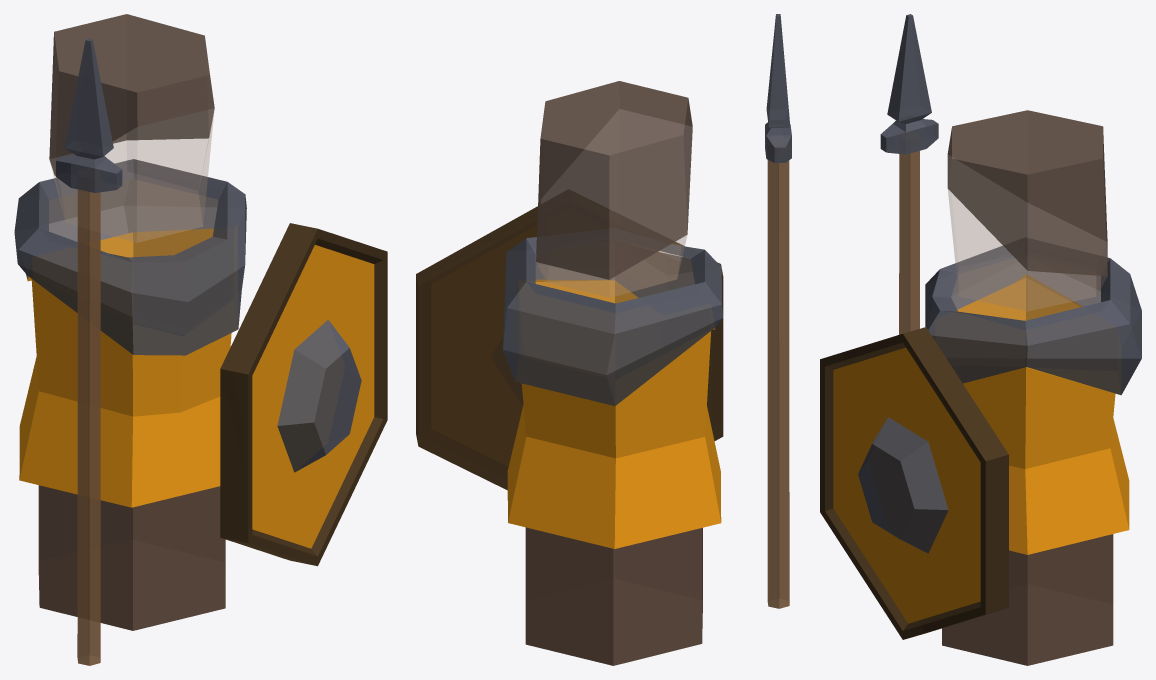
The model's file is MDL_Spearman.fbx.
3 views of the same model, side by side, from view 1: azimuth 30°, elevation 25°; view 2: azimuth 150°, elevation 25°; view 3: azimuth 270°, elevation 25° (orthographic). The views are drawn at different scales.
Parts seen in each view (by area): view 1: MeshSpearman, MeshSpearman.001; view 2: MeshSpearman, MeshSpearman.001; view 3: MeshSpearman, MeshSpearman.001.
Part boxes in pixels (<box>): MeshSpearman: <box>14,14,246,665</box>; MeshSpearman.001: <box>220,223,387,566</box>; MeshSpearman: <box>503,14,791,665</box>; MeshSpearman.001: <box>416,206,723,490</box>; MeshSpearman: <box>880,14,1141,665</box>; MeshSpearman.001: <box>820,327,1008,639</box>.
Size of the model in its own units: 70.13 by 115 by 59.7.
